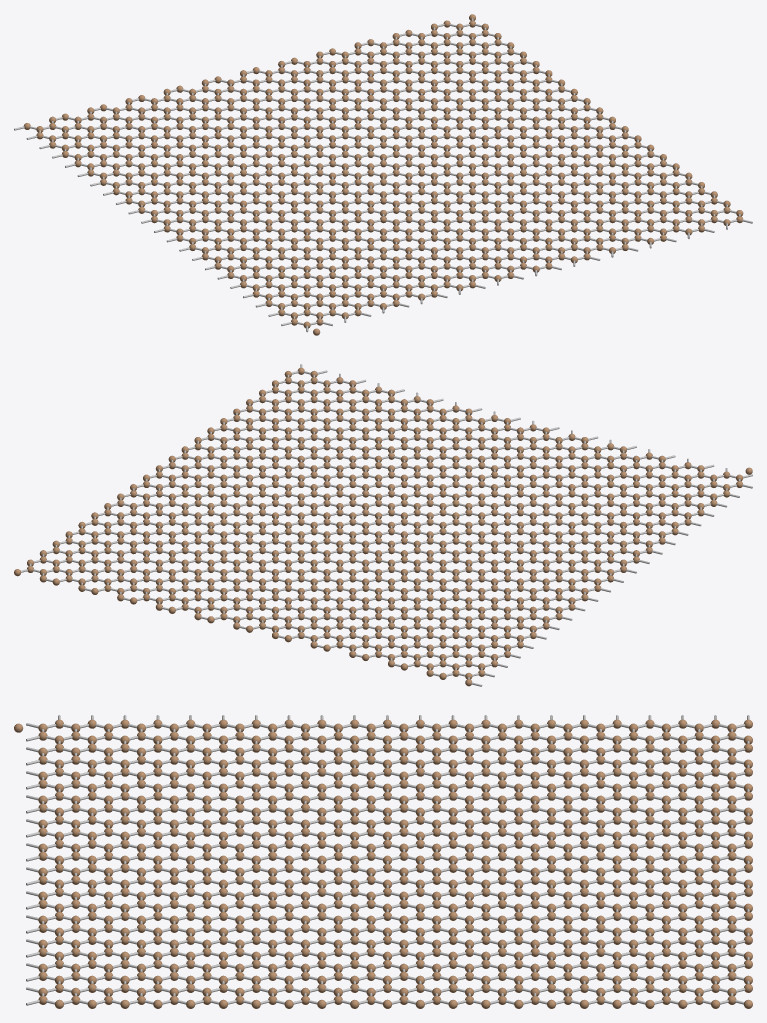
Rendered from graphene_flat_separated_smooth.fbx.
3 views of the same model, one above another, from view 1: azimuth 30°, elevation 25°; view 2: azimuth 150°, elevation 25°; view 3: azimuth 270°, elevation 25° (orthographic). The views are drawn at different scales.
Parts seen in each view (by area): view 1: graphene_flat_mod:graphene_flat_atoms, graphene_flat_mod:graphene_flat_bonds; view 2: graphene_flat_mod:graphene_flat_atoms, graphene_flat_mod:graphene_flat_bonds; view 3: graphene_flat_mod:graphene_flat_atoms, graphene_flat_mod:graphene_flat_bonds.
Part boxes in pixels (<box>): graphene_flat_mod:graphene_flat_atoms: <box>24,14,743,328</box>; graphene_flat_mod:graphene_flat_bonds: <box>14,18,752,332</box>; graphene_flat_mod:graphene_flat_atoms: <box>14,367,743,686</box>; graphene_flat_mod:graphene_flat_bonds: <box>21,364,752,686</box>; graphene_flat_mod:graphene_flat_atoms: <box>38,719,752,1008</box>; graphene_flat_mod:graphene_flat_bonds: <box>26,715,749,1005</box>.
Size of the model in its own units: 515 by 7 by 554.
